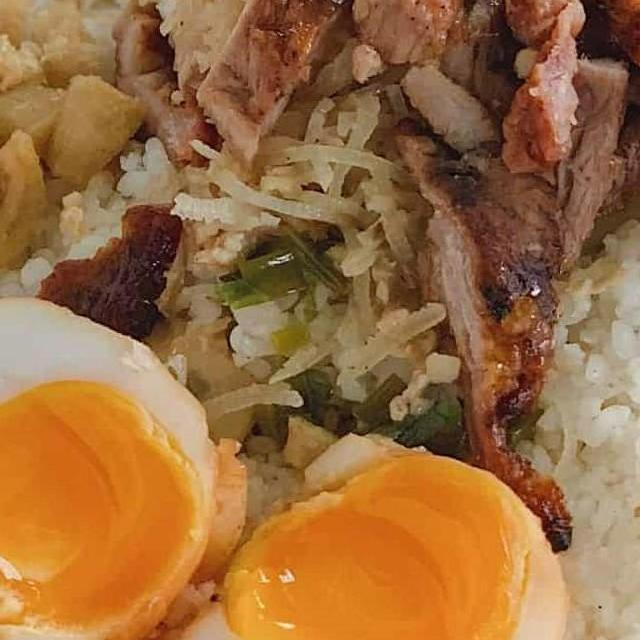bi: (166, 20, 466, 436), (155, 0, 482, 101)
com: (506, 198, 640, 640), (0, 131, 180, 354)
suon: (189, 0, 630, 561)
trung: (135, 431, 572, 640), (0, 291, 255, 640)
